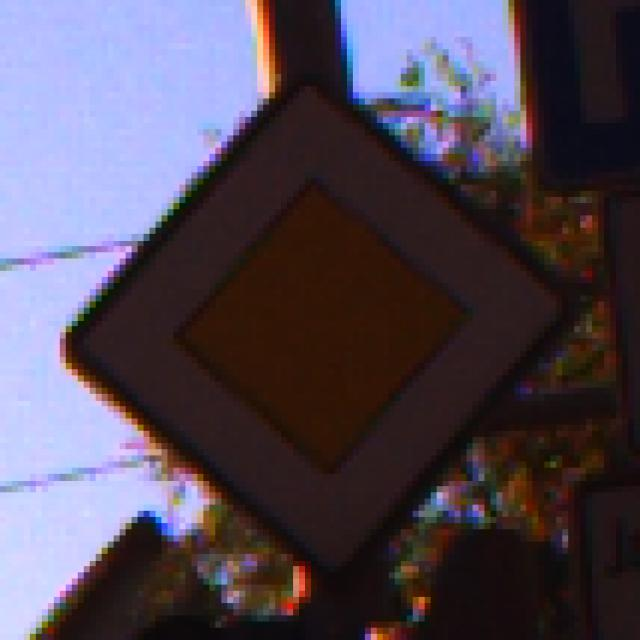Main Road: (55, 63, 587, 586)
